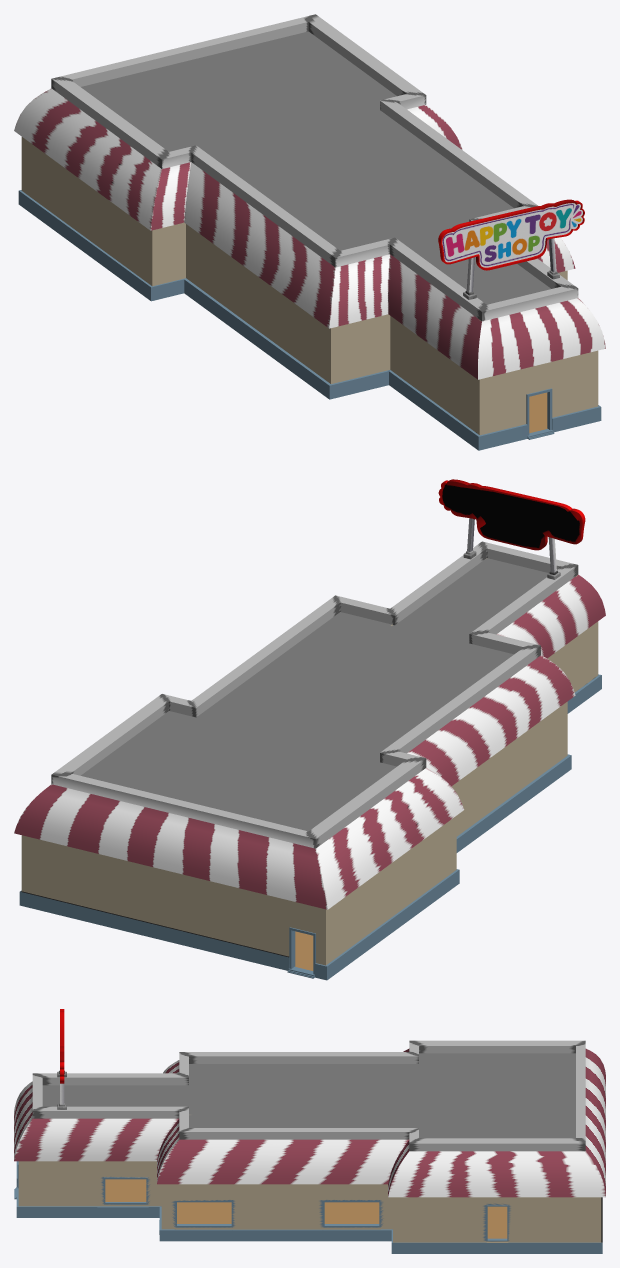
The model's file is Shop.fbx.
3 renders of one model, top to bottom at view 1: azimuth 30°, elevation 25°; view 2: azimuth 150°, elevation 25°; view 3: azimuth 270°, elevation 25°, orthographic. The views are drawn at different scales.
Parts seen in each view (by area): view 1: Box182, Line004; view 2: Box182, Line004; view 3: Box182, Line004.
Part boxes in pixels (box(x1,y1,x2,y2)): Box182: box(14, 14, 605, 450); Line004: box(438, 199, 584, 299); Box182: box(14, 541, 605, 980); Line004: box(438, 479, 585, 579); Box182: box(14, 1040, 605, 1253); Line004: box(57, 1009, 66, 1109).
Size of the model in its own units: 3610 by 2225 by 7394.
